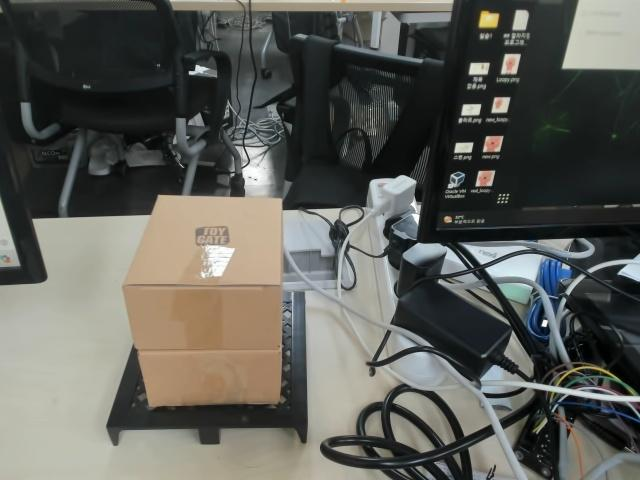box: (103, 194, 309, 449)
